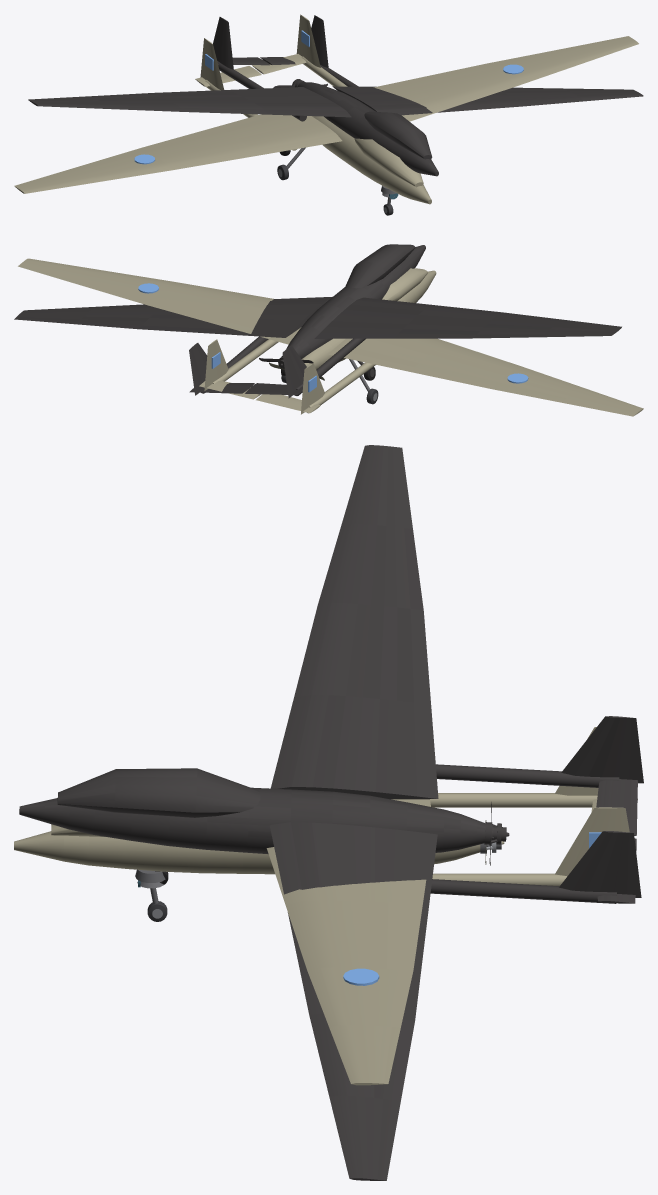
File: drone__heron_isr.glb
3 views of the same model, one above another, from view 1: azimuth 30°, elevation 25°; view 2: azimuth 150°, elevation 25°; view 3: azimuth 270°, elevation 25° (orthographic). The views are drawn at different scales.
Visible parts, largest first — view 1: Fuselage_Mesh, Wreck; view 2: Wreck, Fuselage_Mesh; view 3: Wreck, Fuselage_Mesh.
Part boxes in pixels (<box>): Fuselage_Mesh: <box>14,14,638,215</box>; Wreck: <box>28,15,643,176</box>; Wreck: <box>14,244,621,398</box>; Fuselage_Mesh: <box>18,258,643,416</box>; Wreck: <box>19,445,643,1180</box>; Fuselage_Mesh: <box>14,727,637,1085</box>.
Size of what is drawn, in the model's own units: 16.72 by 3.5 by 8.58.
